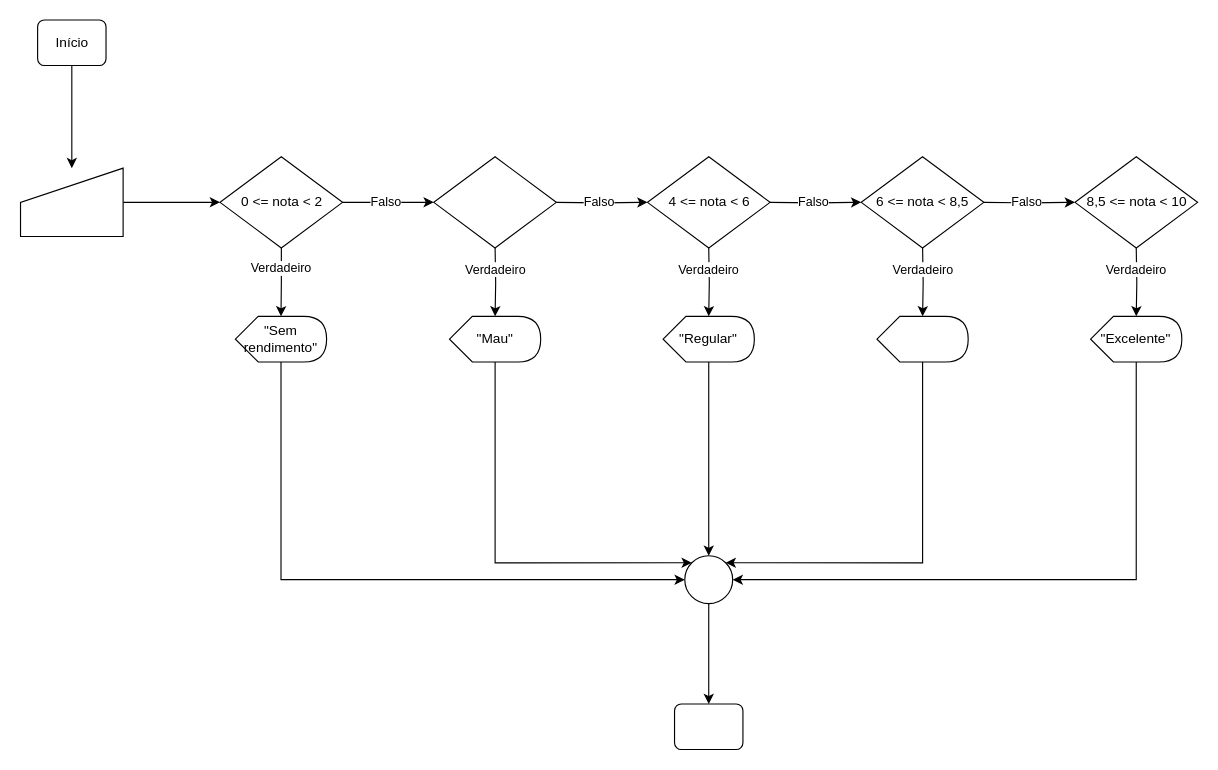
This 1218x770 diagram has some shape labels left out. The shapes that lost their labels are listed below. From the top down, each one's centre as x and y in pixels, then its label:
point (71, 202): Ler nota
point (494, 202): 2 <= nota < 4
point (922, 338): "Bom"
point (708, 726): Fim
